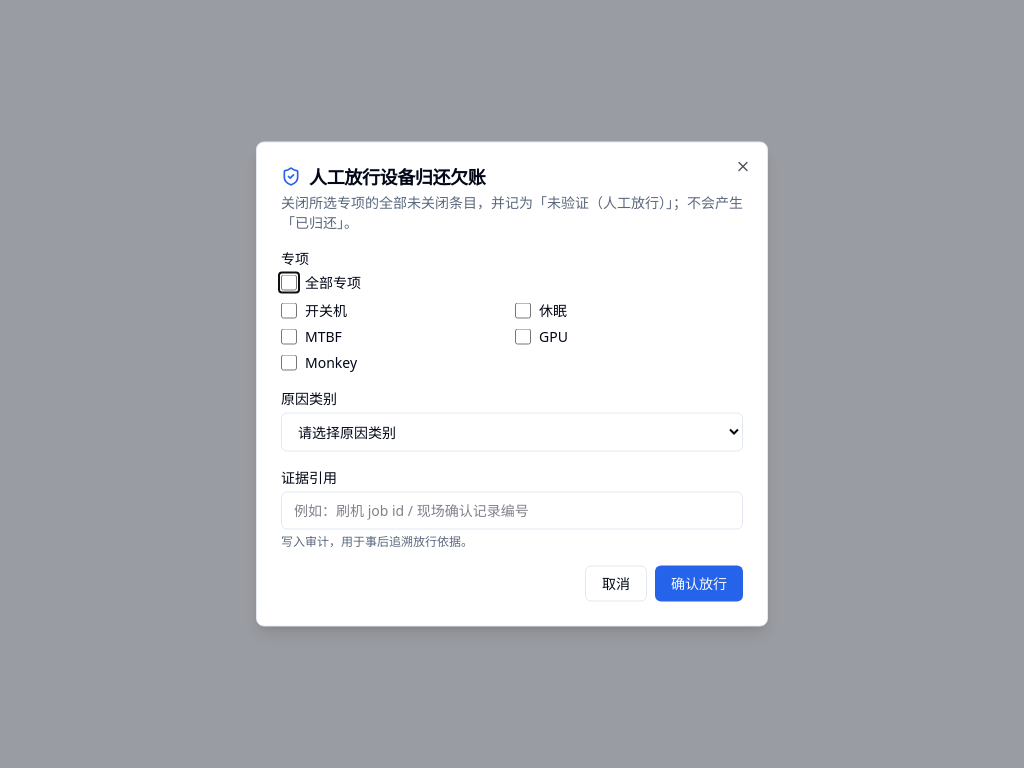
Test: DeviceReturnOverrideDialog › requires a family, a reason category and an evidence reference
The width and height of the screenshot is (1024, 768).
Click the button with test id "return-override-submit" at (699, 584), box [655,566,743,602]
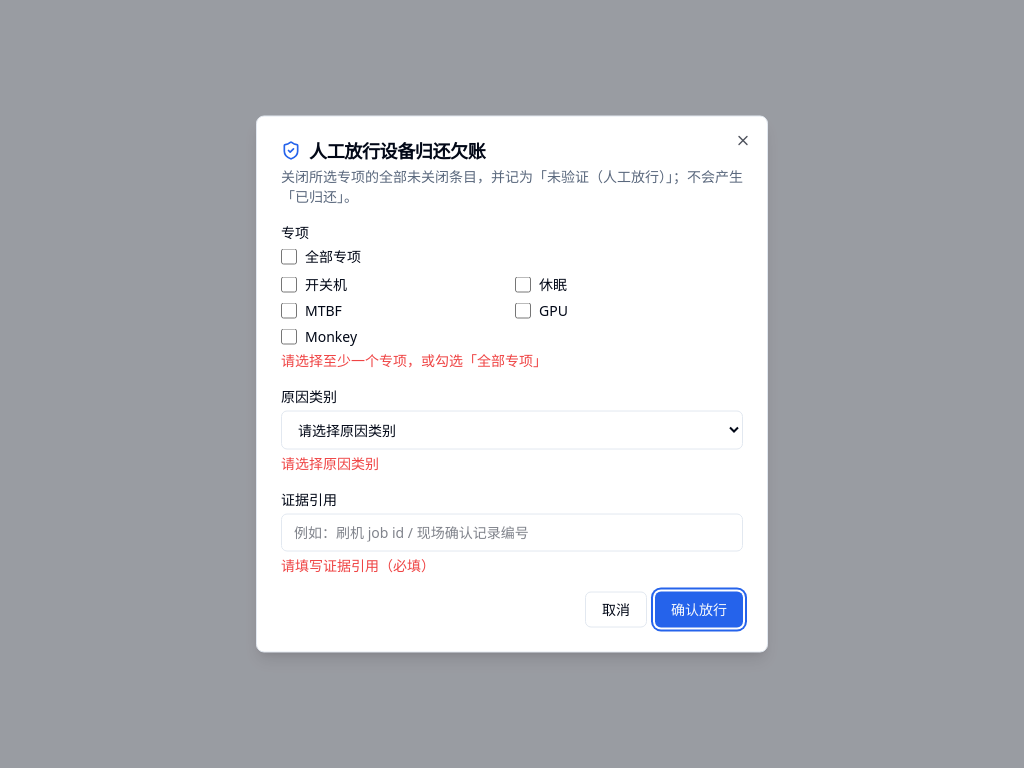
Check: the text "请选择至少一个专项，或勾选「全部专项」" is shown, box [281,350,547,370]
Check: the text "请选择原因类别" is shown, box [281,454,379,472]
Check: the text "请填写证据引用（必填）" is shown, box [281,556,435,574]
